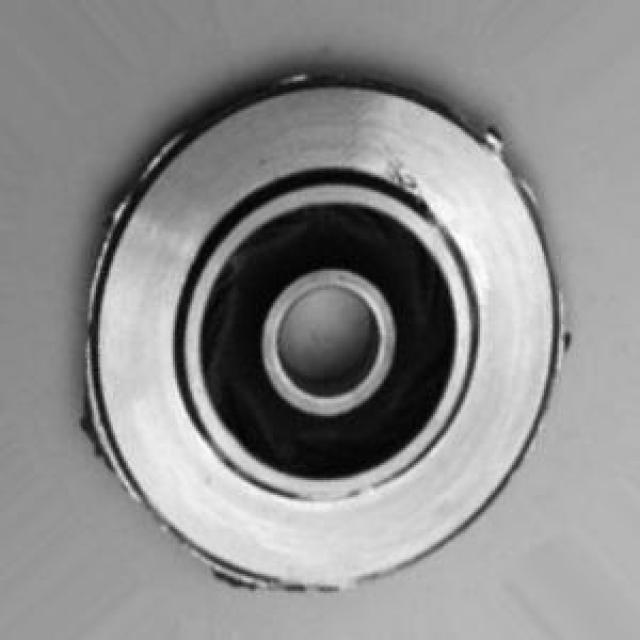Defect: (382, 149, 437, 201)
